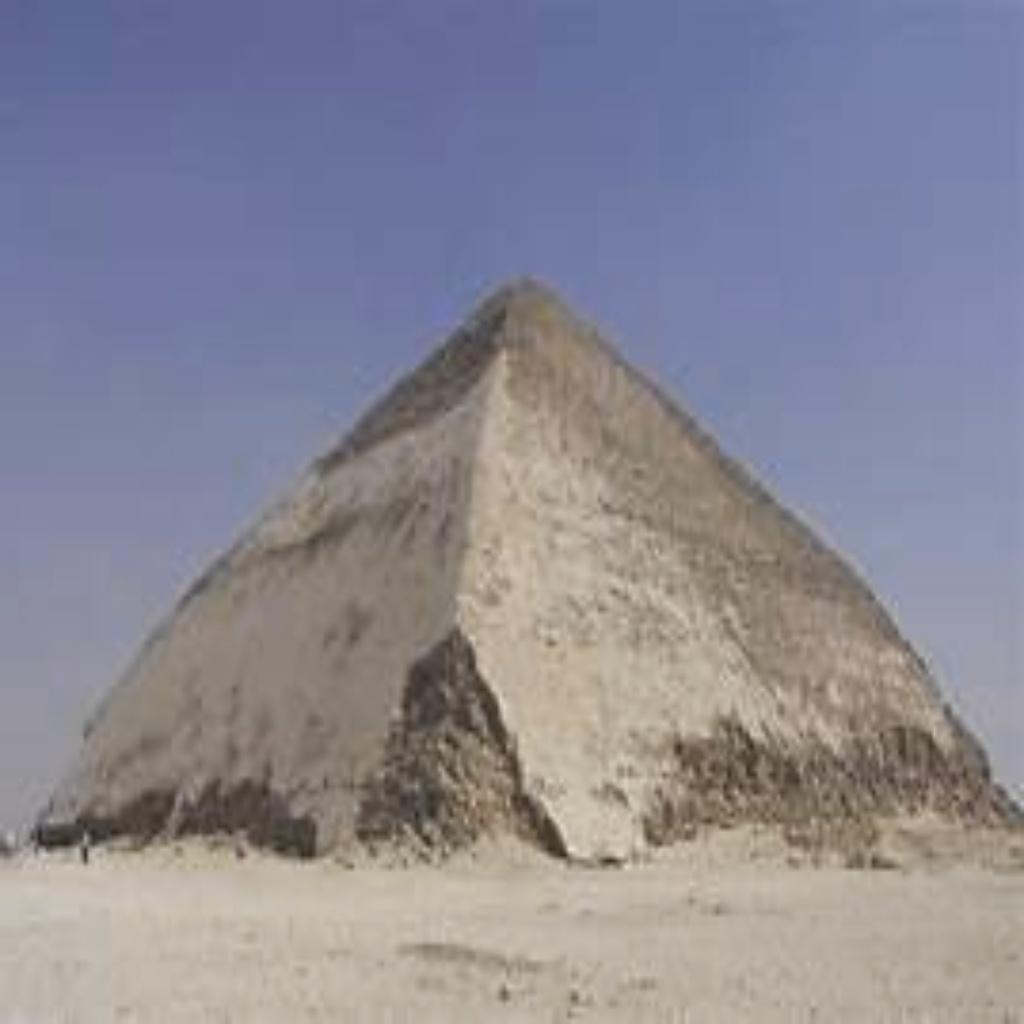Bent Pyramid of King Sneferu: (34, 263, 1012, 864)
